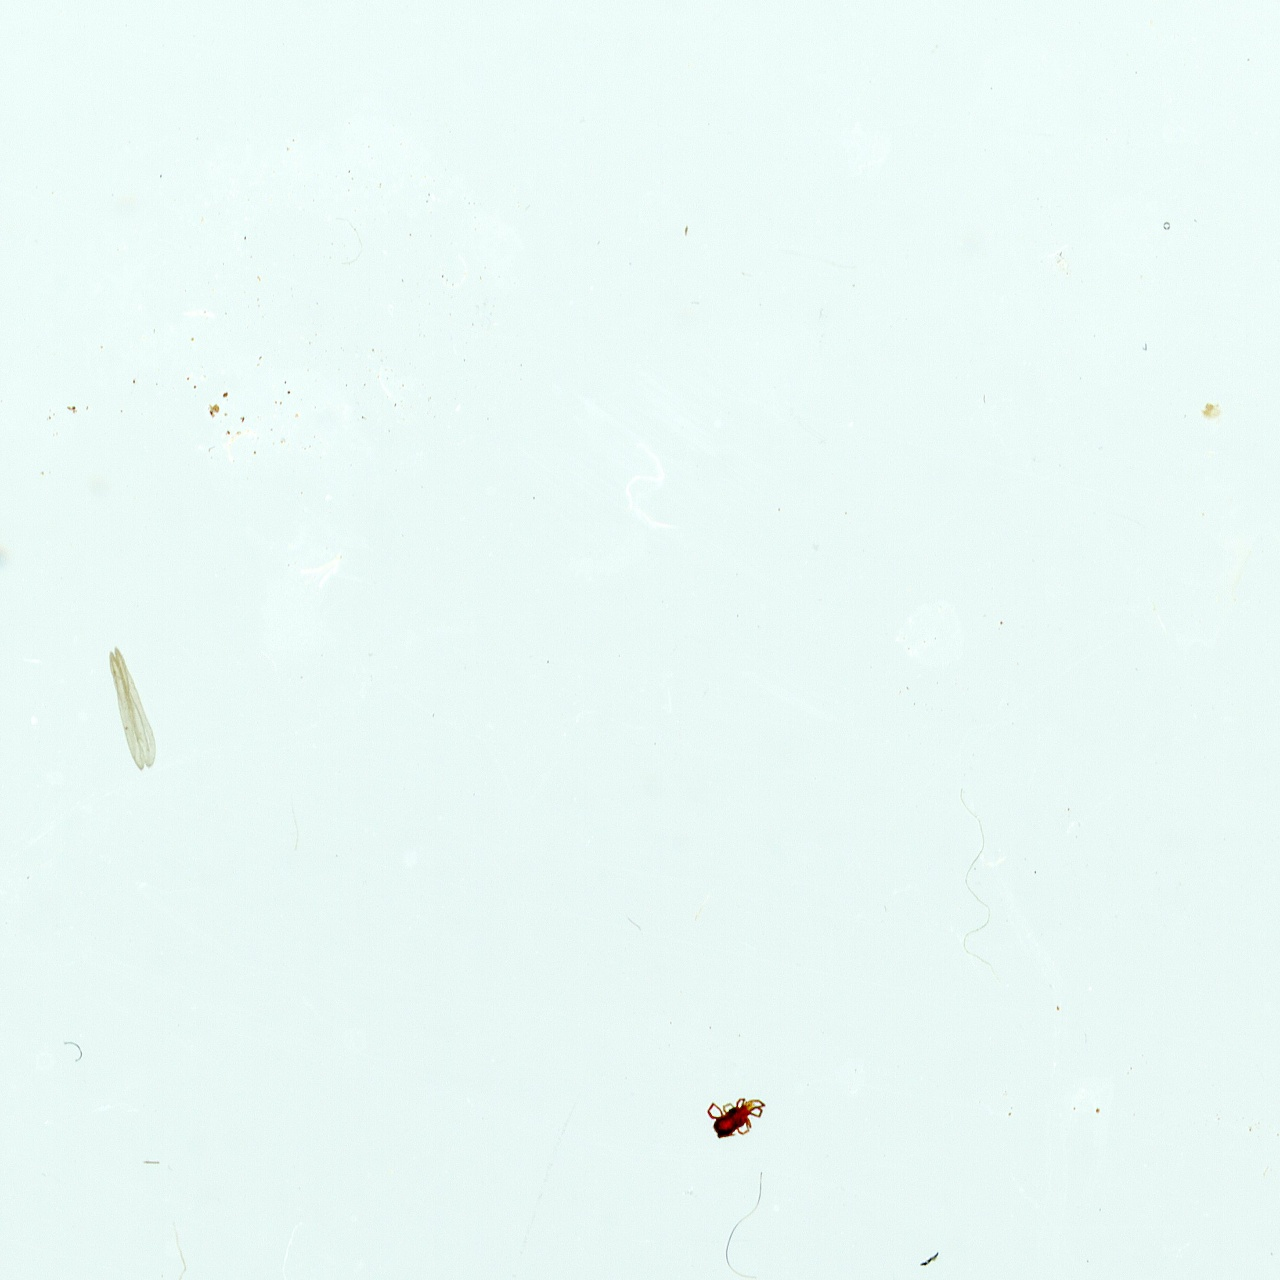arthropod: (702, 1095, 771, 1142)
